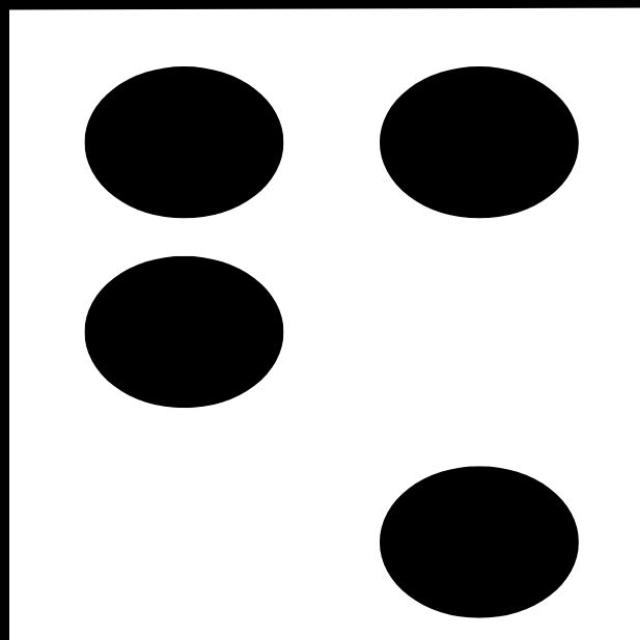naging: (87, 62, 580, 620)
